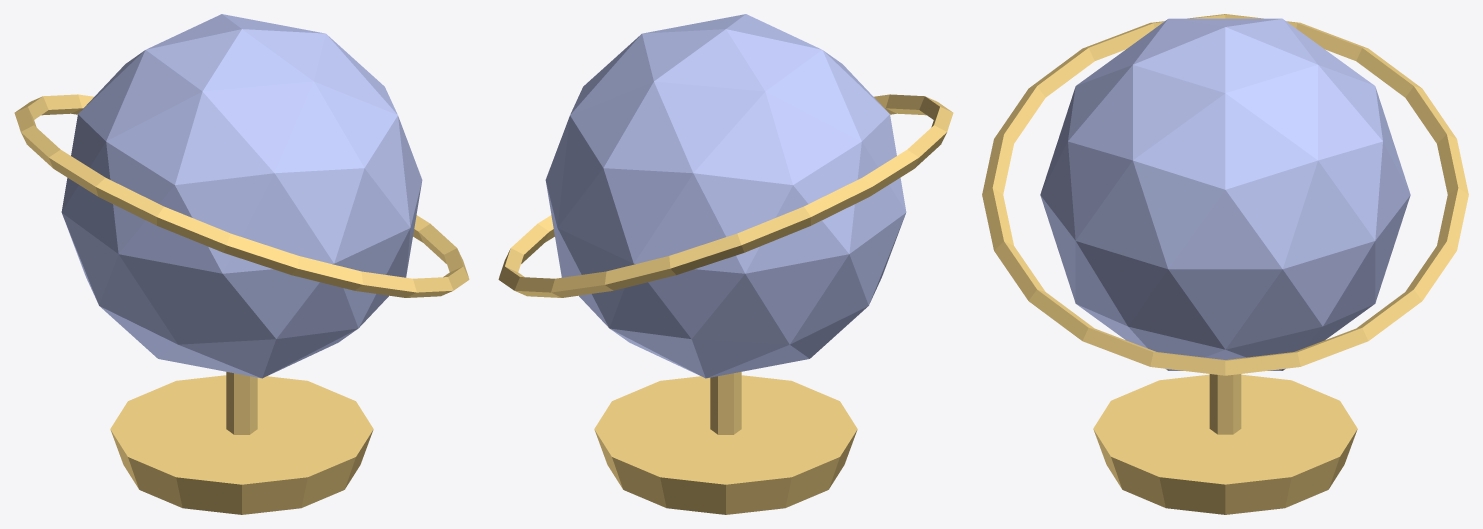
The model's file is globe.fbx.
3 renders of one model, left to right at view 1: azimuth 30°, elevation 25°; view 2: azimuth 150°, elevation 25°; view 3: azimuth 270°, elevation 25°, orthographic.
Parts seen in each view (by area): view 1: globe.Main, globe.Gold; view 2: globe.Main, globe.Gold; view 3: globe.Main, globe.Gold.
Part boxes in pixels (x1,y1,x2,y2): globe.Main: (61,14,422,378); globe.Gold: (14,94,469,514); globe.Main: (545,14,906,378); globe.Gold: (498,94,953,514); globe.Main: (1040,18,1410,370); globe.Gold: (982,14,1468,514).
Bounding box in the file's own units: 1.69 × 1.82 × 1.84.
